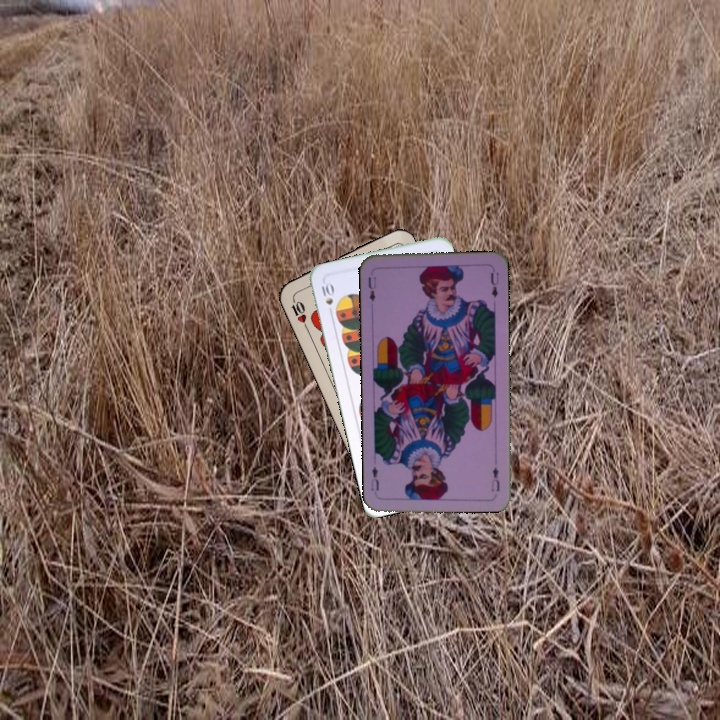EU: (364, 273, 379, 304), (487, 463, 502, 494)
H10: (287, 293, 310, 331)
S10: (317, 278, 336, 308)
